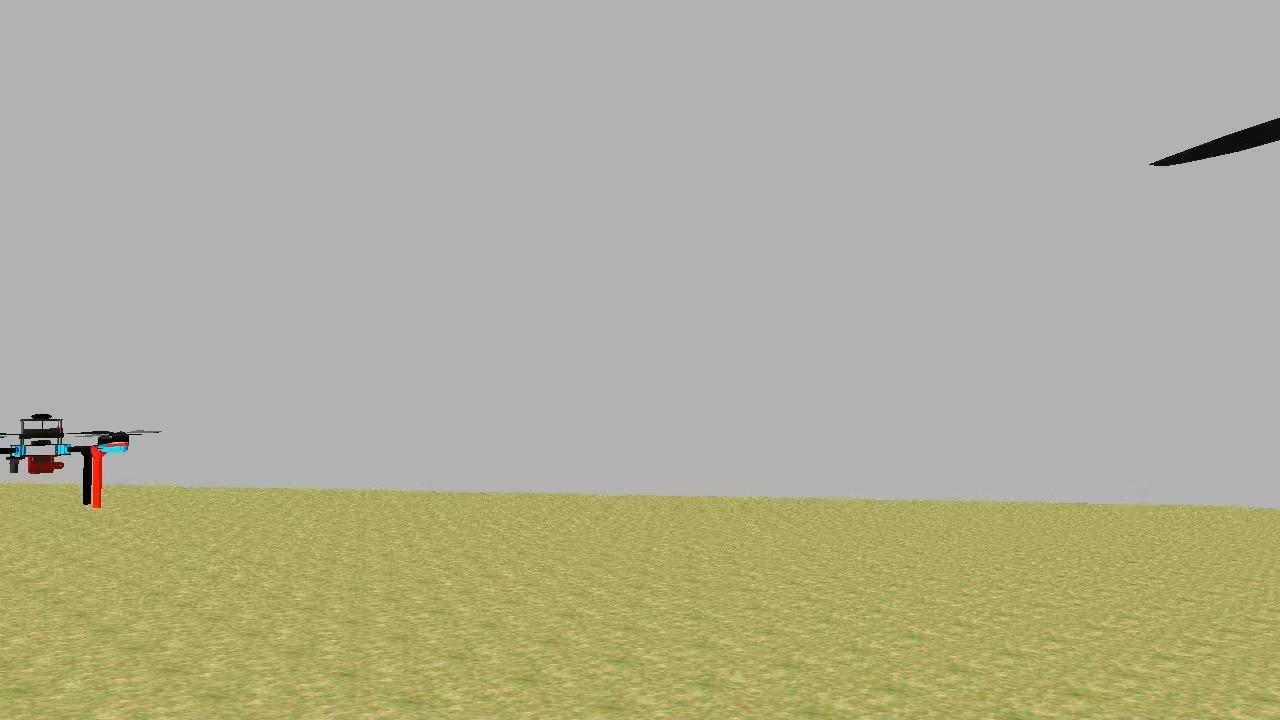UAV: (0, 412, 140, 516)
